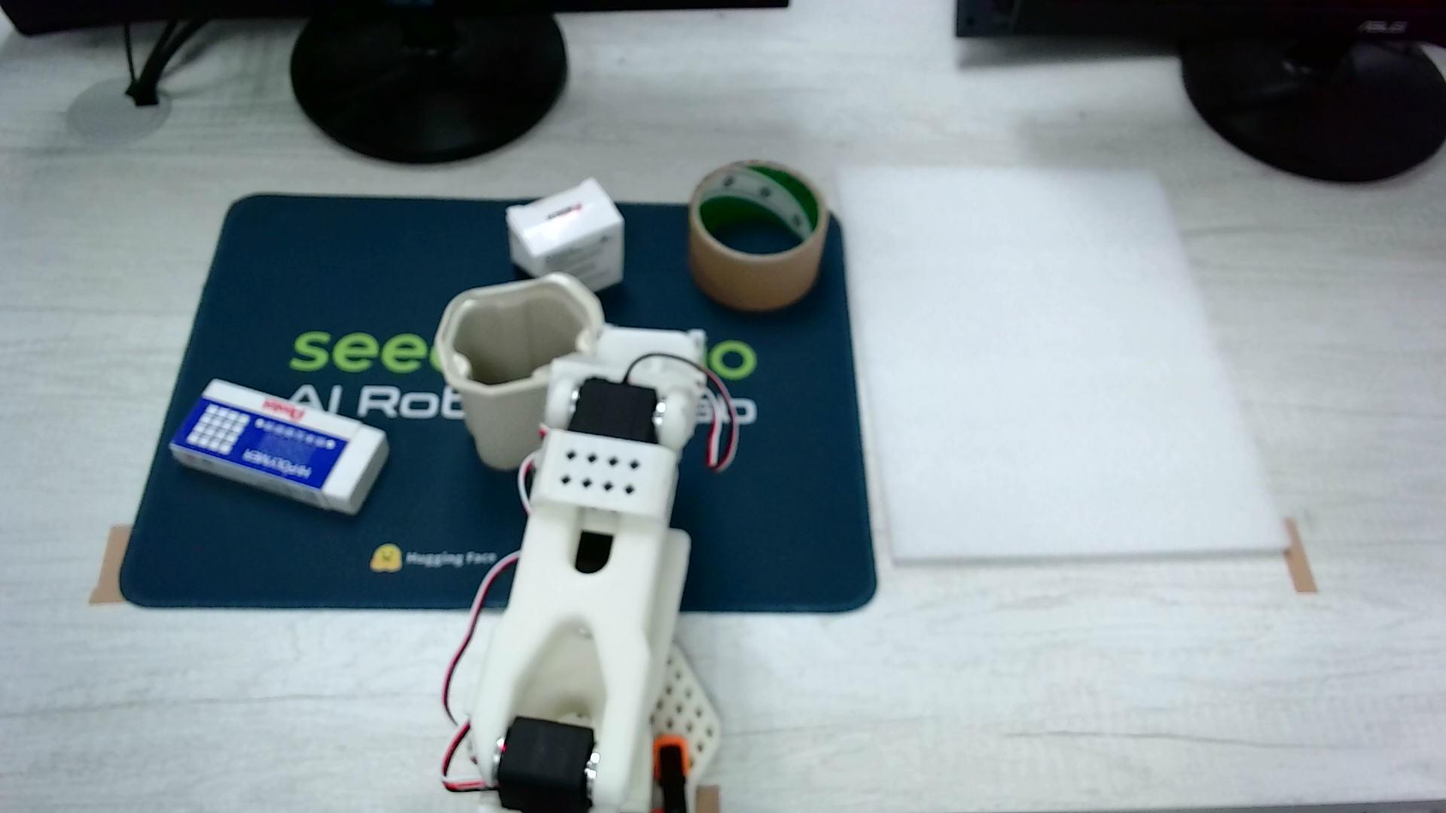eraser: (507, 178, 623, 291)
